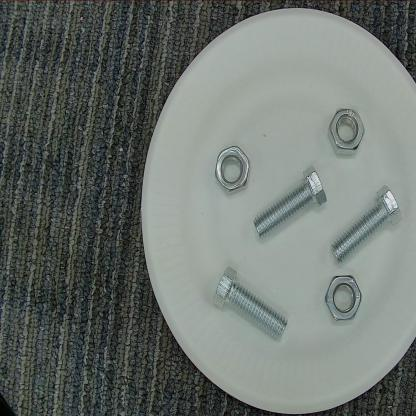FOD: (204, 259, 292, 348), (250, 160, 331, 244), (330, 179, 403, 270), (209, 142, 255, 204), (321, 271, 366, 330), (321, 104, 369, 158)
